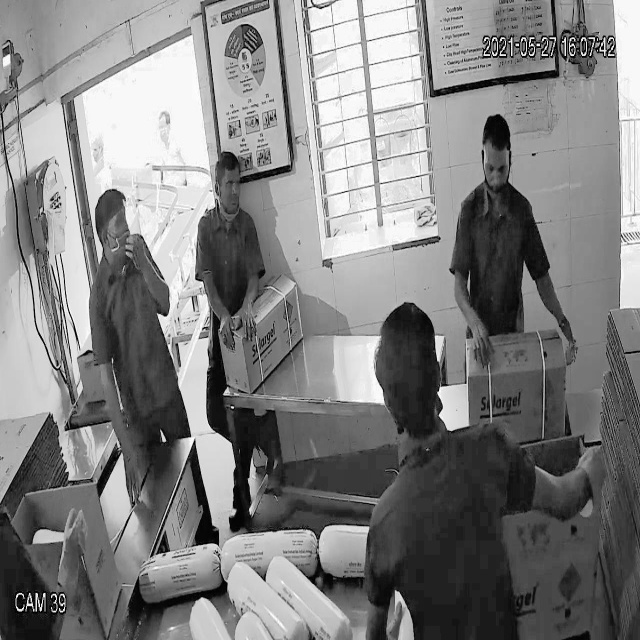Sin_gafas: (94, 207, 137, 247), (477, 154, 516, 186)
